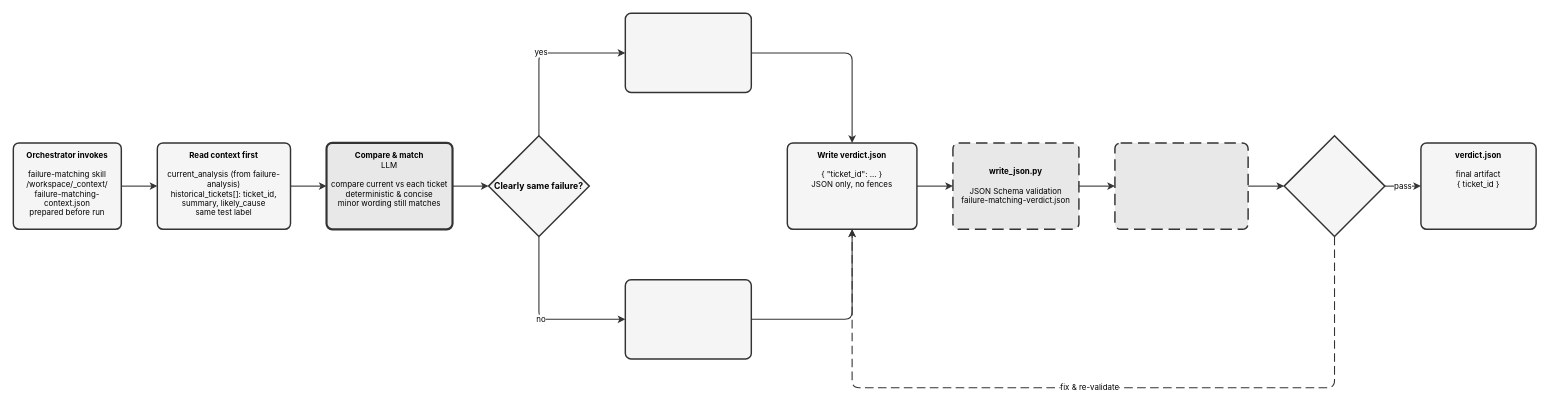
Some shapes in this 1549 by 406 pixel diagram are drawn without their labels. Here are the shapes that lost their labels. From the top down, the box of each, then its label:
(624, 12, 752, 93): Use candidate ticket_id set from candidate list never invent an ID
(1114, 142, 1248, 230): validate_verdict.py semantic validation against context file
(1283, 135, 1385, 237): Valid?
(624, 279, 752, 359): ticket_id = null no candidate clearly matches actual JSON null
